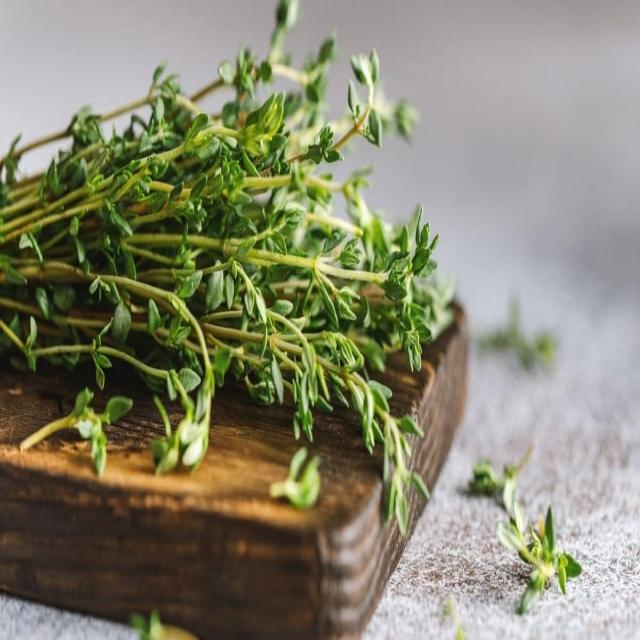Thyme: (0, 0, 450, 535)
